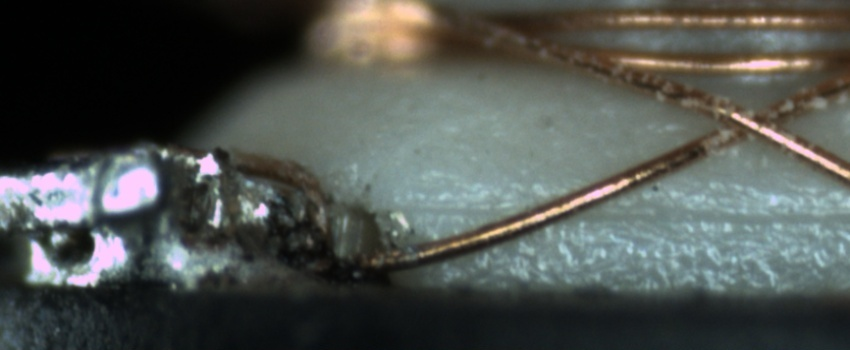CL: (707, 94, 807, 154)
DL: (406, 182, 850, 239)
TE: (233, 146, 341, 252)
